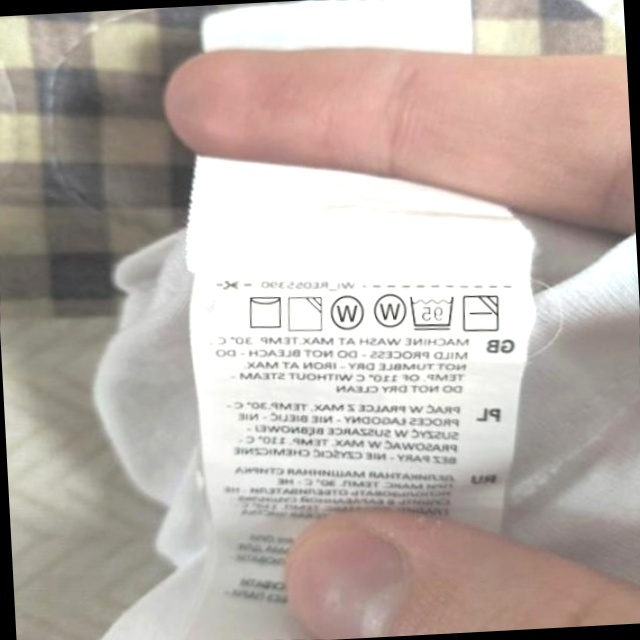95C: (406, 291, 458, 333)
dry_flat_in_shade: (460, 290, 503, 336)
line_dry: (243, 291, 286, 332)
shade_dry: (284, 292, 326, 335)
wet_clean: (327, 292, 367, 335), (369, 288, 408, 331)
